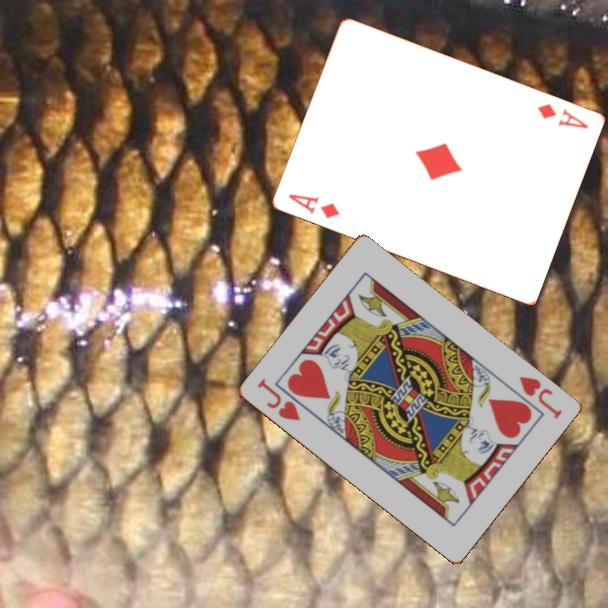d01: (533, 100, 591, 132), (285, 191, 343, 222)
h11: (253, 375, 303, 424), (515, 373, 565, 422)
